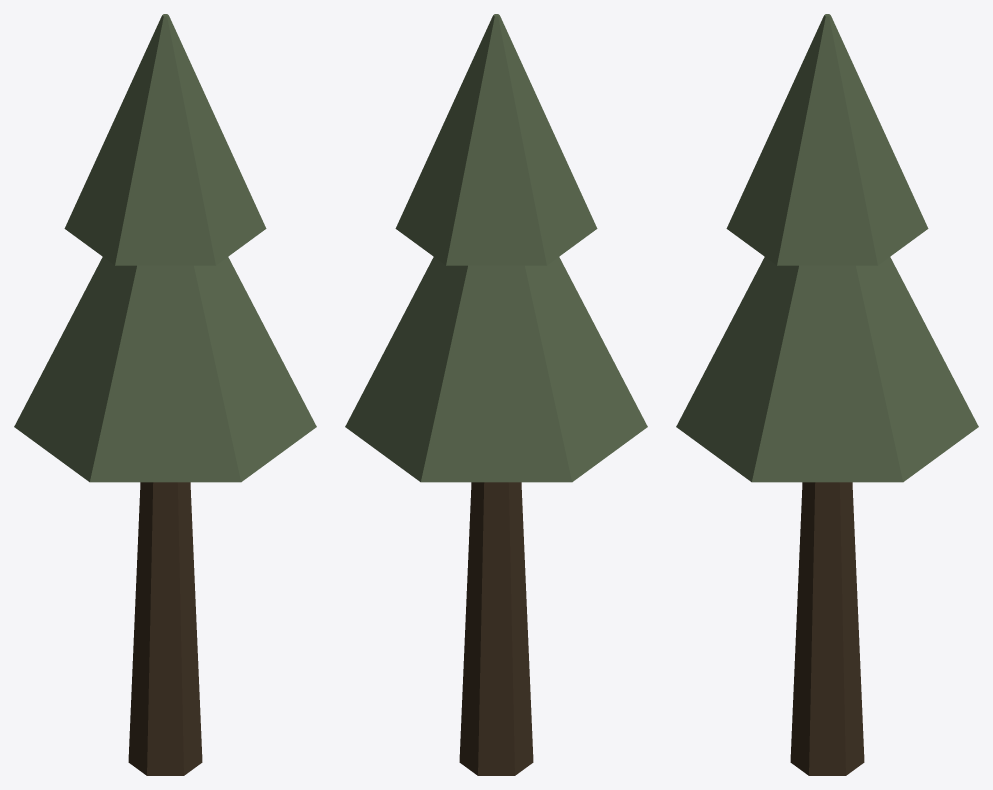
File: prp_pine_dead.glb
The picture shows the model from 3 angles, left to right: view 1: azimuth 30°, elevation 25°; view 2: azimuth 150°, elevation 25°; view 3: azimuth 270°, elevation 25°; orthographic projection.
Parts seen in each view (by area): view 1: prp_pine_dead; view 2: prp_pine_dead; view 3: prp_pine_dead.
Part boxes in pixels (bbox=[...]): prp_pine_dead: bbox=[14, 14, 316, 775]; prp_pine_dead: bbox=[345, 14, 647, 775]; prp_pine_dead: bbox=[676, 14, 978, 775].
Bounding box in the file's own units: 1.56 × 4.9 × 1.8.
